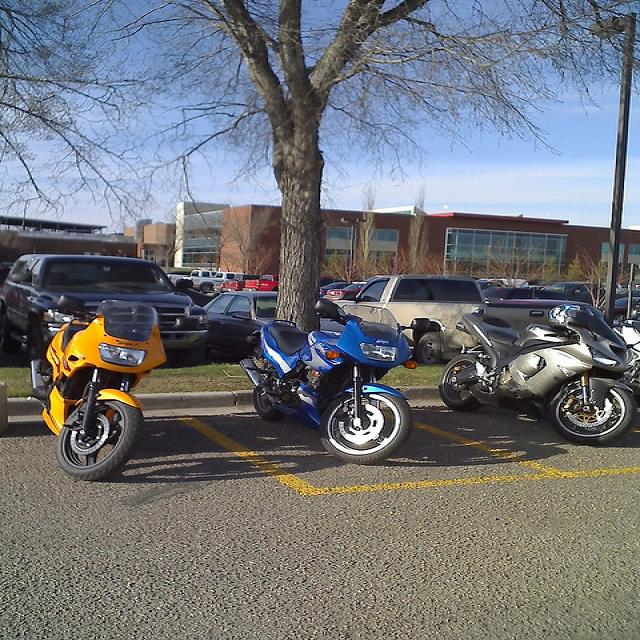motor: (237, 298, 432, 465), (439, 305, 636, 444), (27, 294, 168, 481), (615, 314, 640, 387)
